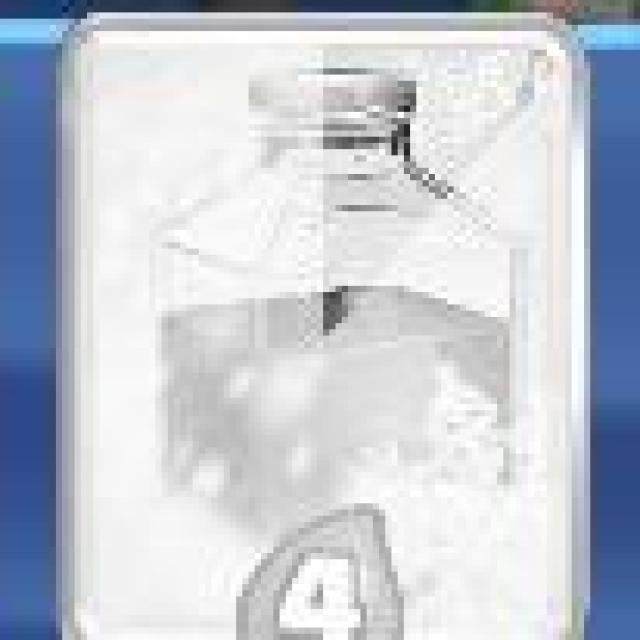Freeze: (47, 9, 596, 639)
